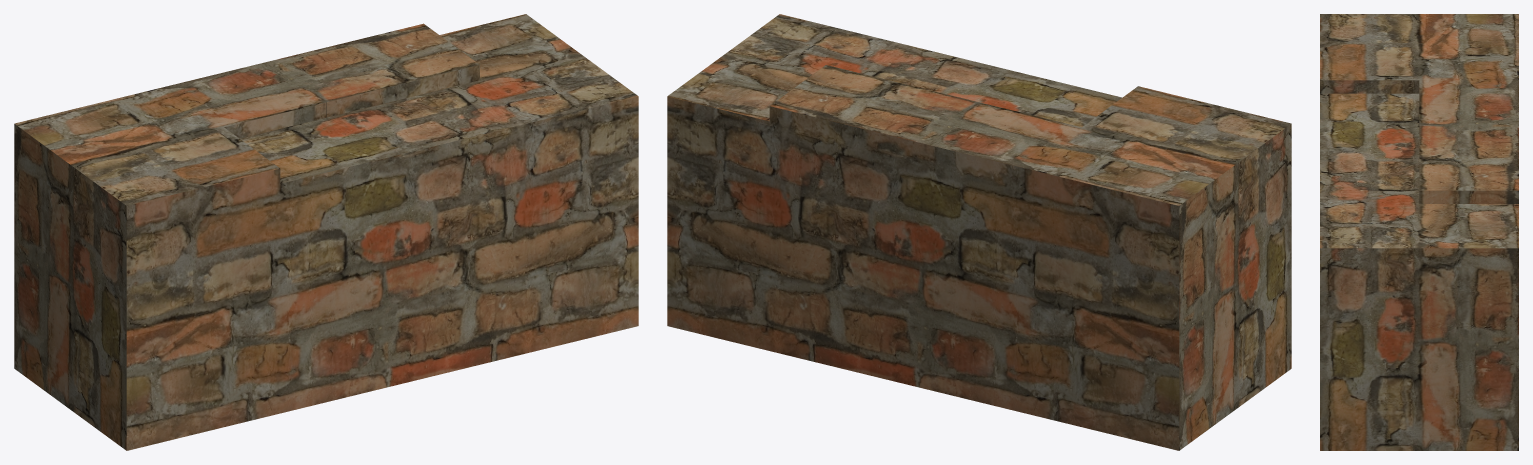
The model's file is brick_wall.dae.
The picture shows the model from 3 angles, left to right: view 1: azimuth 30°, elevation 25°; view 2: azimuth 150°, elevation 25°; view 3: azimuth 270°, elevation 25°; orthographic projection. The views are drawn at different scales.
Parts seen in each view (by area): view 1: Shape_IndexedFaceSet.1152; view 2: Shape_IndexedFaceSet.1152; view 3: Shape_IndexedFaceSet.1152.
Part boxes in pixels (x1=…): Shape_IndexedFaceSet.1152: x1=14, y1=14, x2=638, y2=450; Shape_IndexedFaceSet.1152: x1=667, y1=14, x2=1291, y2=450; Shape_IndexedFaceSet.1152: x1=1320, y1=14, x2=1518, y2=450.
Bounding box in the file's own units: 2.1 × 0.8 × 0.96.
Materials: 1 (1 with a texture image).
